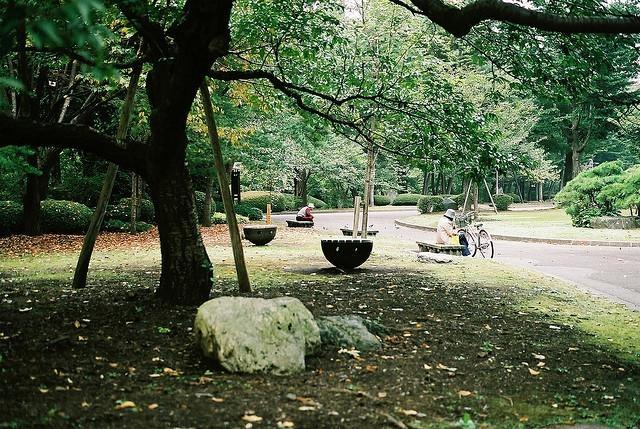bicycle: (455, 210, 495, 258)
